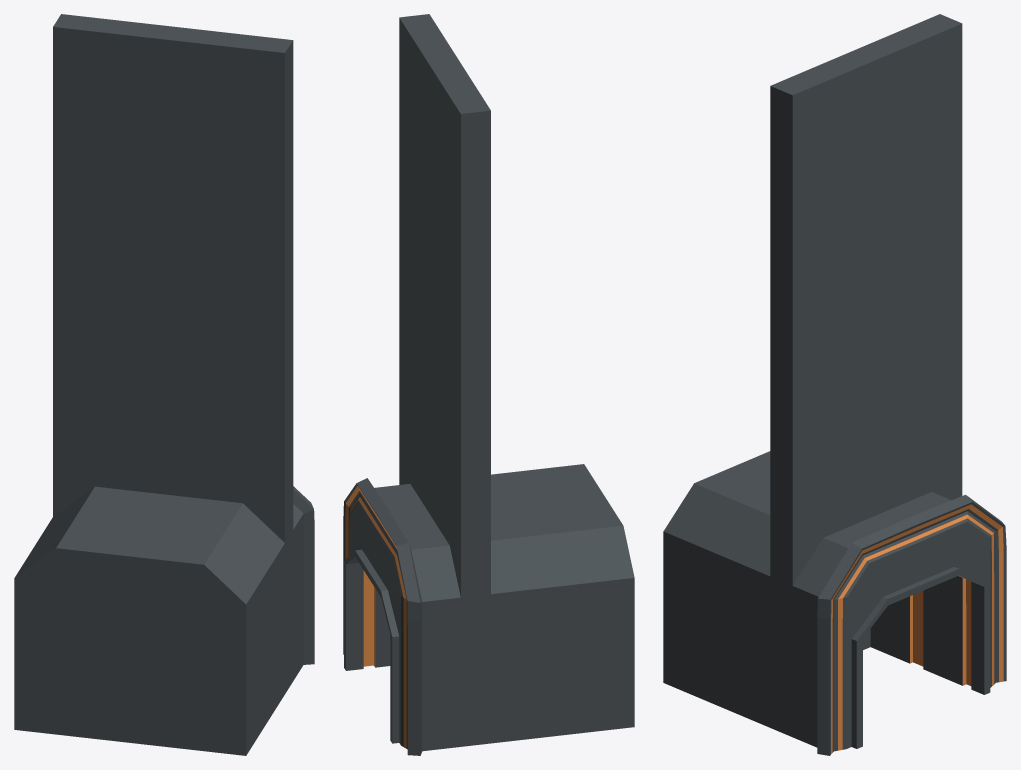
Rendered from EnemySpawn.fbx.
3 renders of one model, left to right at view 1: azimuth 30°, elevation 25°; view 2: azimuth 150°, elevation 25°; view 3: azimuth 270°, elevation 25°, orthographic.
Parts seen in each view (by area): view 1: EnemySpawn; view 2: EnemySpawn; view 3: EnemySpawn.
Part boxes in pixels (left/top/right/bottom): EnemySpawn: left=14, top=14, right=314, bottom=755; EnemySpawn: left=343, top=14, right=634, bottom=755; EnemySpawn: left=663, top=14, right=1006, bottom=755.
Size of the model in its own units: 858 by 1772 by 858.
